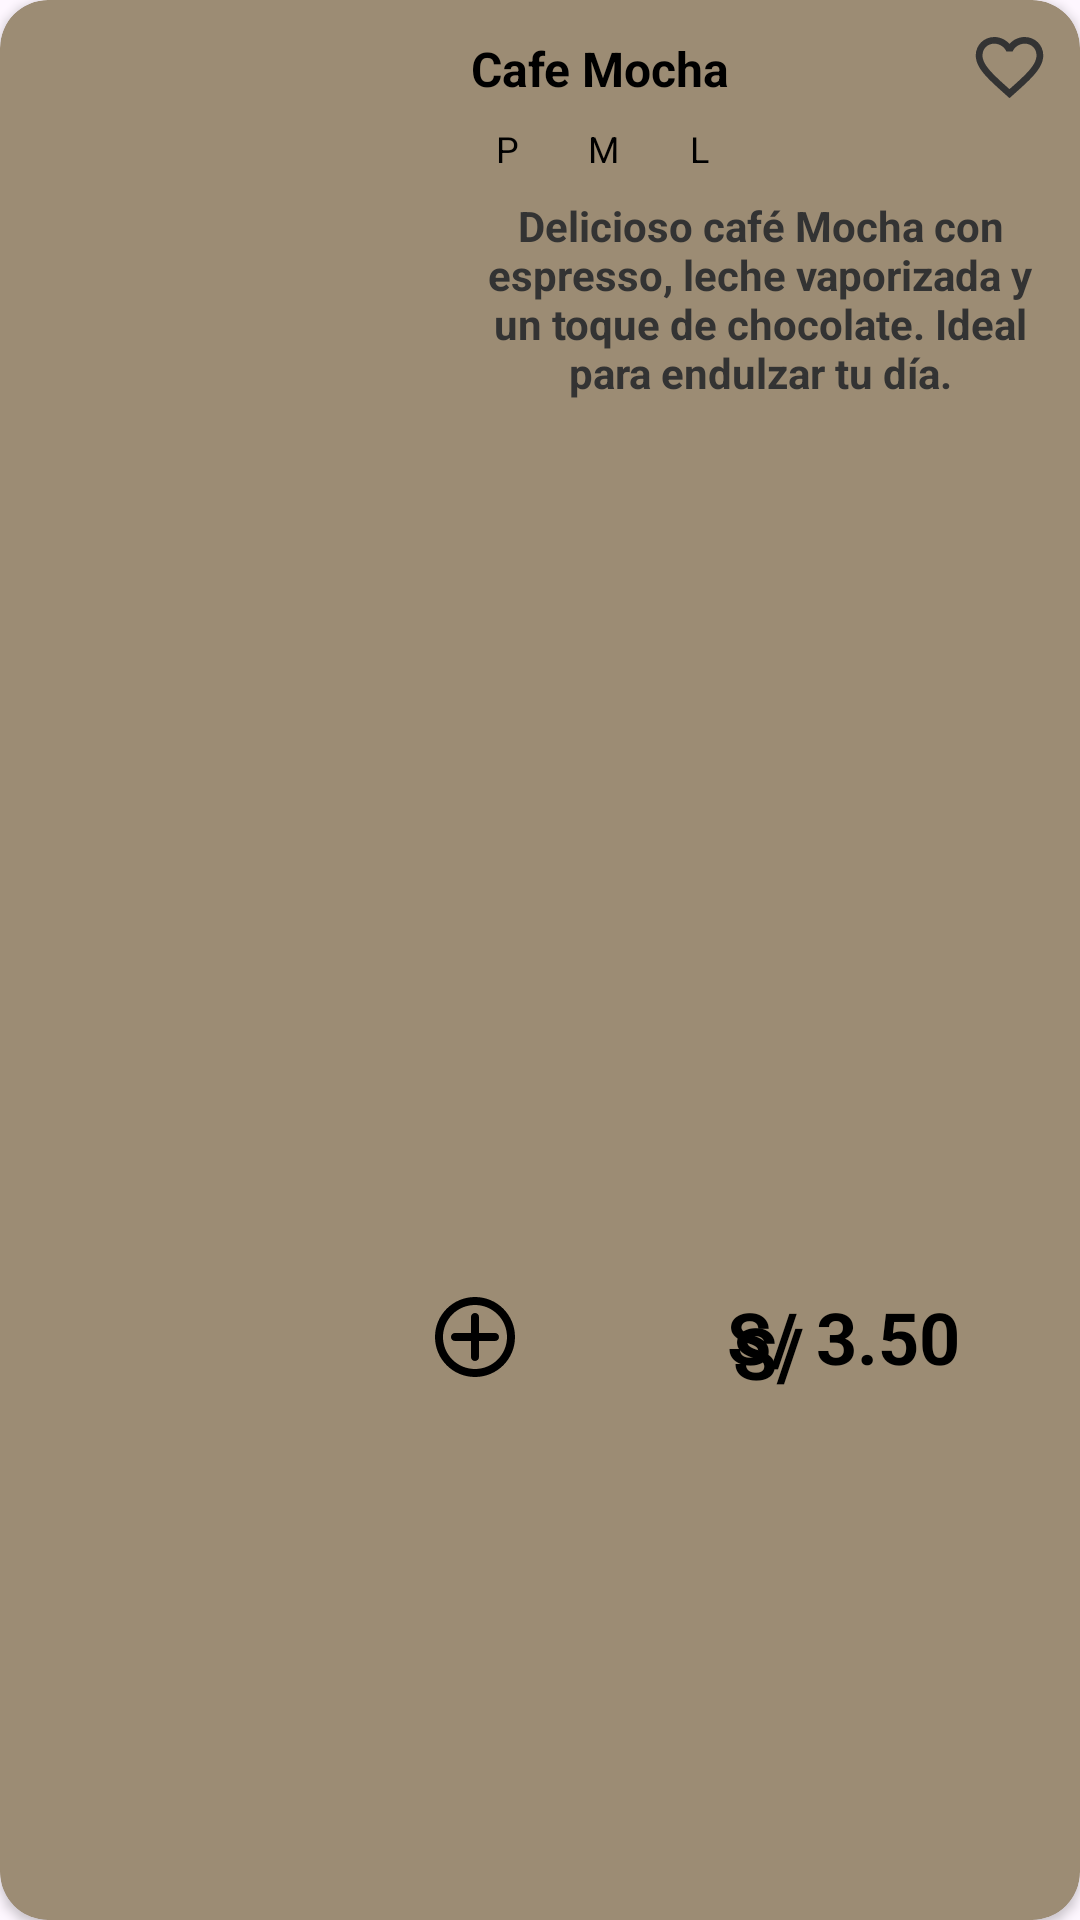

Icons on this 1080px x 1920px Android screen, each with the point to tap as [x,y]:
add: [475,1337]
favourite: [1009,67]
